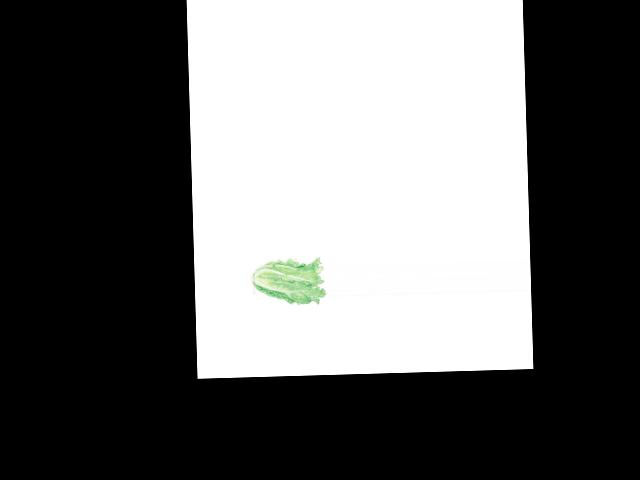lettuce: (252, 255, 326, 306)
